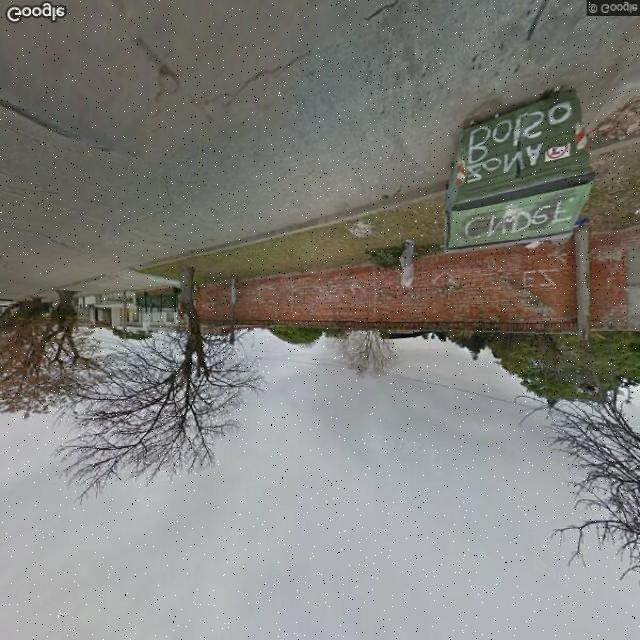garbage container: (425, 73, 608, 270)
